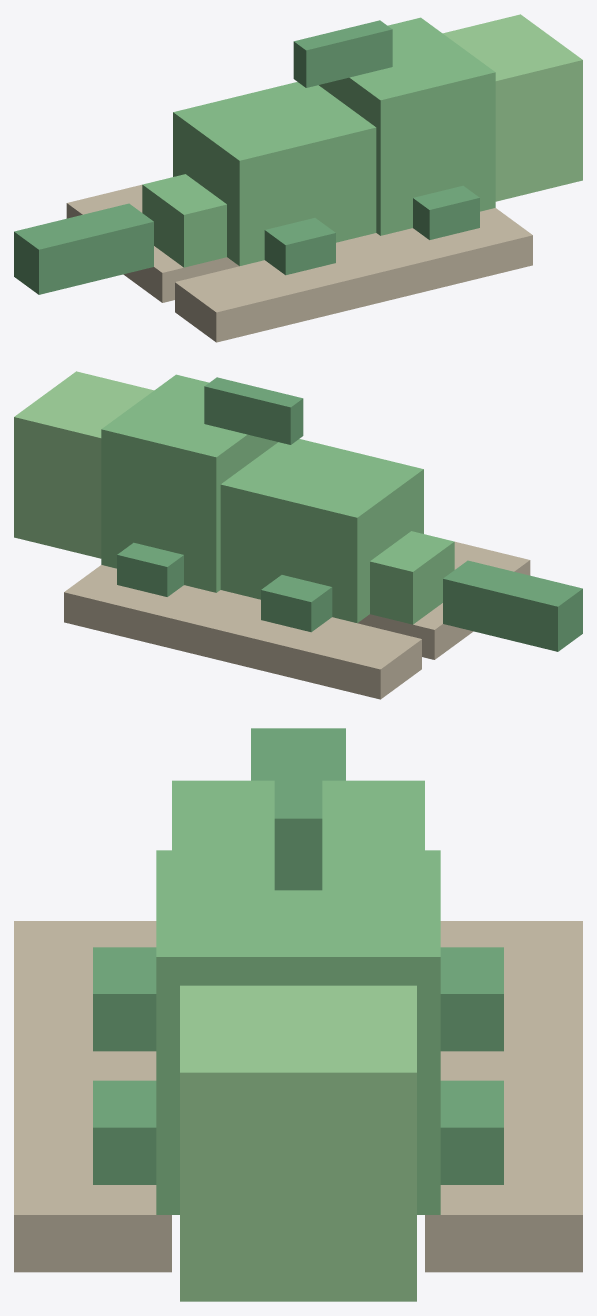
Rendered from 36-Fauna_lagarto_isla.glb.
3 views of the same model, one above another, from view 1: azimuth 30°, elevation 25°; view 2: azimuth 150°, elevation 25°; view 3: azimuth 270°, elevation 25° (orthographic). The views are drawn at different scales.
Visible parts, largest first — view 1: SM_Lagarto_Cuerpo_NOFUNDIR, SM_Lagarto_Rodela_NOFUNDIR, SM_Lagarto_Apendices_NOFUNDIR, SM_Lagarto_Cabeza_NOFUNDIR; view 2: SM_Lagarto_Cuerpo_NOFUNDIR, SM_Lagarto_Rodela_NOFUNDIR, SM_Lagarto_Apendices_NOFUNDIR, SM_Lagarto_Cabeza_NOFUNDIR; view 3: SM_Lagarto_Rodela_NOFUNDIR, SM_Lagarto_Cabeza_NOFUNDIR, SM_Lagarto_Cuerpo_NOFUNDIR, SM_Lagarto_Apendices_NOFUNDIR.
Part boxes in pixels (x1,y1,x2,y2): SM_Lagarto_Cuerpo_NOFUNDIR: (142, 17, 495, 267); SM_Lagarto_Rodela_NOFUNDIR: (66, 184, 532, 342); SM_Lagarto_Apendices_NOFUNDIR: (14, 20, 479, 294); SM_Lagarto_Cabeza_NOFUNDIR: (443, 14, 582, 201); SM_Lagarto_Cuerpo_NOFUNDIR: (101, 374, 454, 624); SM_Lagarto_Rodela_NOFUNDIR: (64, 541, 530, 699); SM_Lagarto_Apendices_NOFUNDIR: (117, 377, 582, 651); SM_Lagarto_Cabeza_NOFUNDIR: (14, 371, 153, 558); SM_Lagarto_Rodela_NOFUNDIR: (14, 921, 582, 1272); SM_Lagarto_Cabeza_NOFUNDIR: (180, 985, 416, 1301); SM_Lagarto_Cuerpo_NOFUNDIR: (156, 780, 440, 1214); SM_Lagarto_Apendices_NOFUNDIR: (93, 728, 503, 1184).
Bounding box in the file's own units: 0.73 × 0.27 × 0.36.
